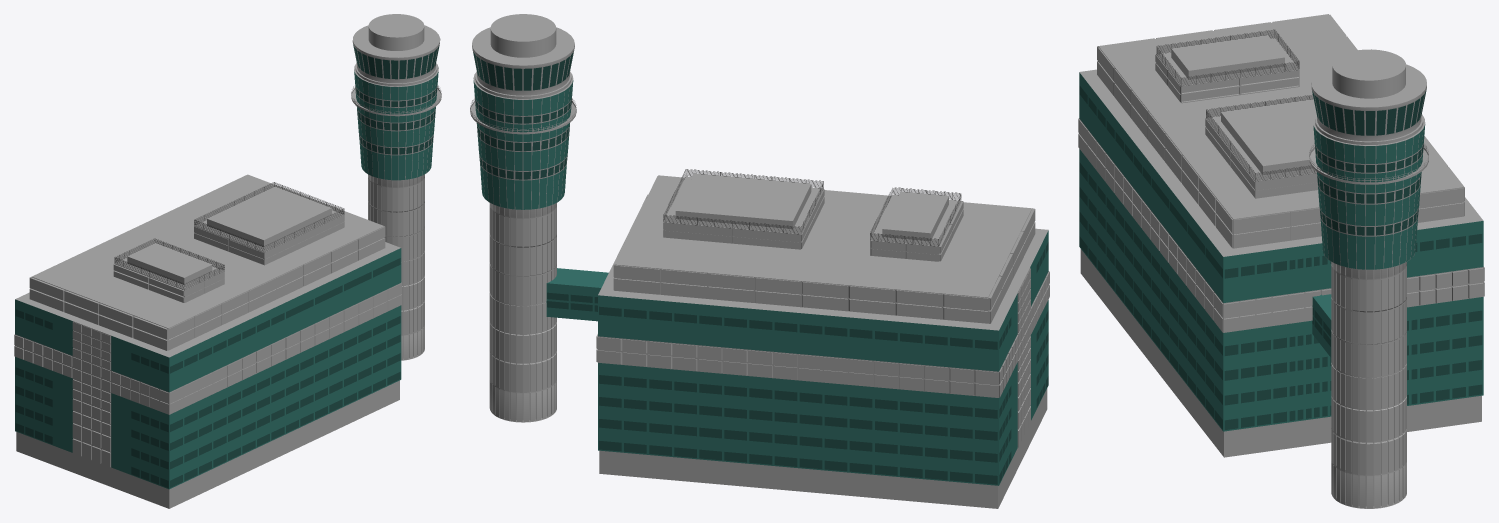
The model's file is vhhhtower.glb.
The picture shows the model from 3 angles, left to right: view 1: azimuth 30°, elevation 25°; view 2: azimuth 150°, elevation 25°; view 3: azimuth 270°, elevation 25°; orthographic projection. The views are drawn at different scales.
Parts seen in each view (by area): view 1: Cube.003, Cube, Cube.002, Cube.004, Cube.005, Cylinder, Cylinder.002, Cylinder.003, Cube.001, Cylinder.001; view 2: Cube.003, Cube, Cube.004, Cube.002, Cylinder.002, Cube.005, Cylinder, Cylinder.003, Cylinder.001, Cube.001, Cube.006, Cube.007; view 3: Cube.003, Cube, Cylinder.002, Cube.004, Cube.002, Cylinder, Cylinder.003, Cube.005, Cylinder.001, Cube.001, Cube.006.
Boxes of the visible parts, x1,y1,x2,y2 form: Cube.003: [14, 174, 401, 467]; Cube: [15, 248, 401, 489]; Cube.002: [29, 179, 385, 350]; Cube.004: [15, 258, 400, 487]; Cube.005: [16, 380, 399, 508]; Cylinder: [351, 14, 441, 180]; Cylinder.002: [368, 174, 424, 360]; Cylinder.003: [354, 71, 438, 180]; Cube.001: [114, 182, 344, 289]; Cylinder.001: [353, 44, 439, 154]; Cube.003: [596, 173, 1049, 447]; Cube: [598, 230, 1048, 485]; Cube.004: [599, 242, 1048, 484]; Cube.002: [613, 176, 1035, 323]; Cylinder.002: [489, 203, 556, 422]; Cube.005: [599, 388, 1047, 508]; Cylinder: [470, 14, 576, 209]; Cylinder.003: [473, 80, 573, 209]; Cylinder.001: [473, 50, 574, 179]; Cube.001: [663, 169, 961, 246]; Cube.006: [546, 268, 608, 321]; Cube.007: [547, 292, 597, 311]; Cube.003: [1078, 14, 1484, 332]; Cube: [1079, 72, 1483, 431]; Cylinder.002: [1331, 262, 1406, 508]; Cube.004: [1079, 86, 1482, 429]; Cube.002: [1097, 14, 1464, 248]; Cylinder: [1309, 49, 1428, 269]; Cylinder.003: [1313, 124, 1425, 269]; Cube.005: [1080, 249, 1481, 457]; Cylinder.001: [1312, 89, 1426, 235]; Cube.001: [1156, 29, 1316, 181]; Cube.006: [1312, 294, 1331, 357].
Bounding box in the file's own units: 83.25 × 59.46 × 51.15.
